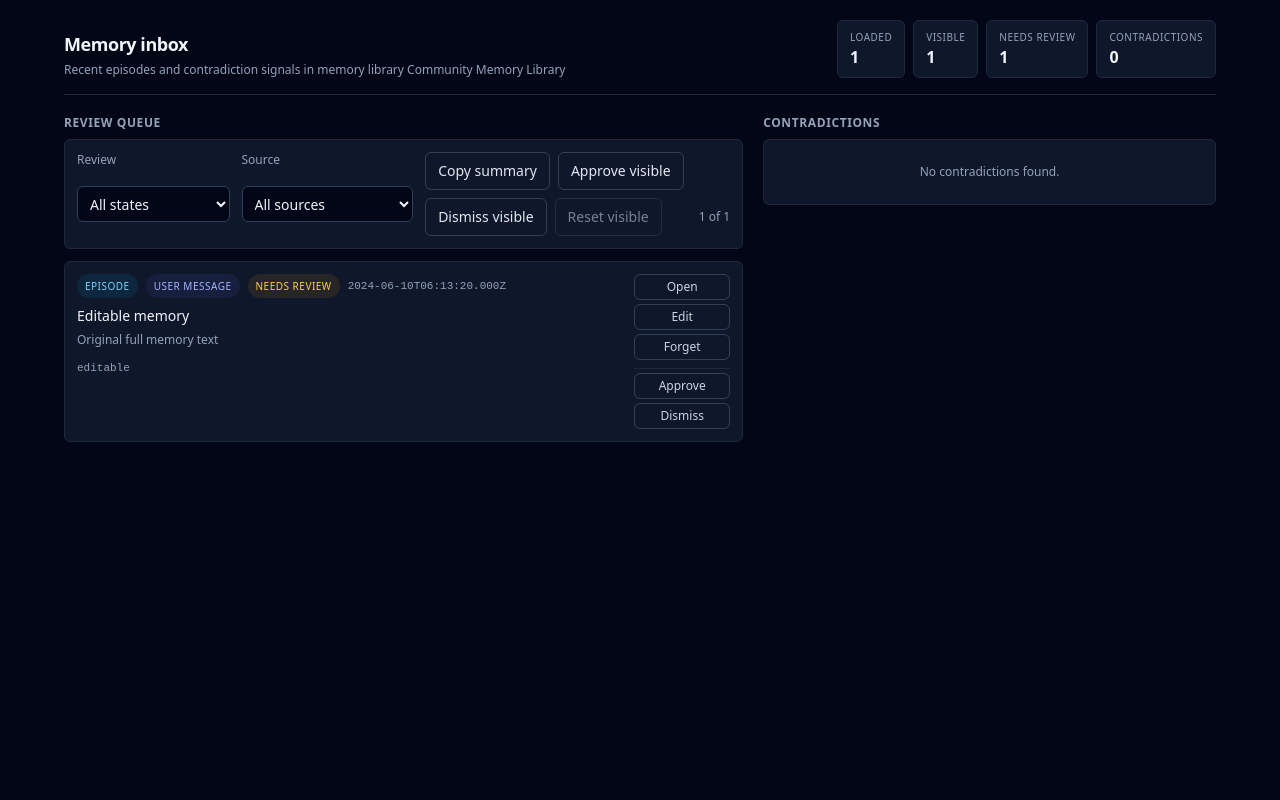
InboxView › loads full episode text before saving an edit
Click the button with aria-label "edit editable memory": {"x": 682, "y": 317} [634,304,730,330]
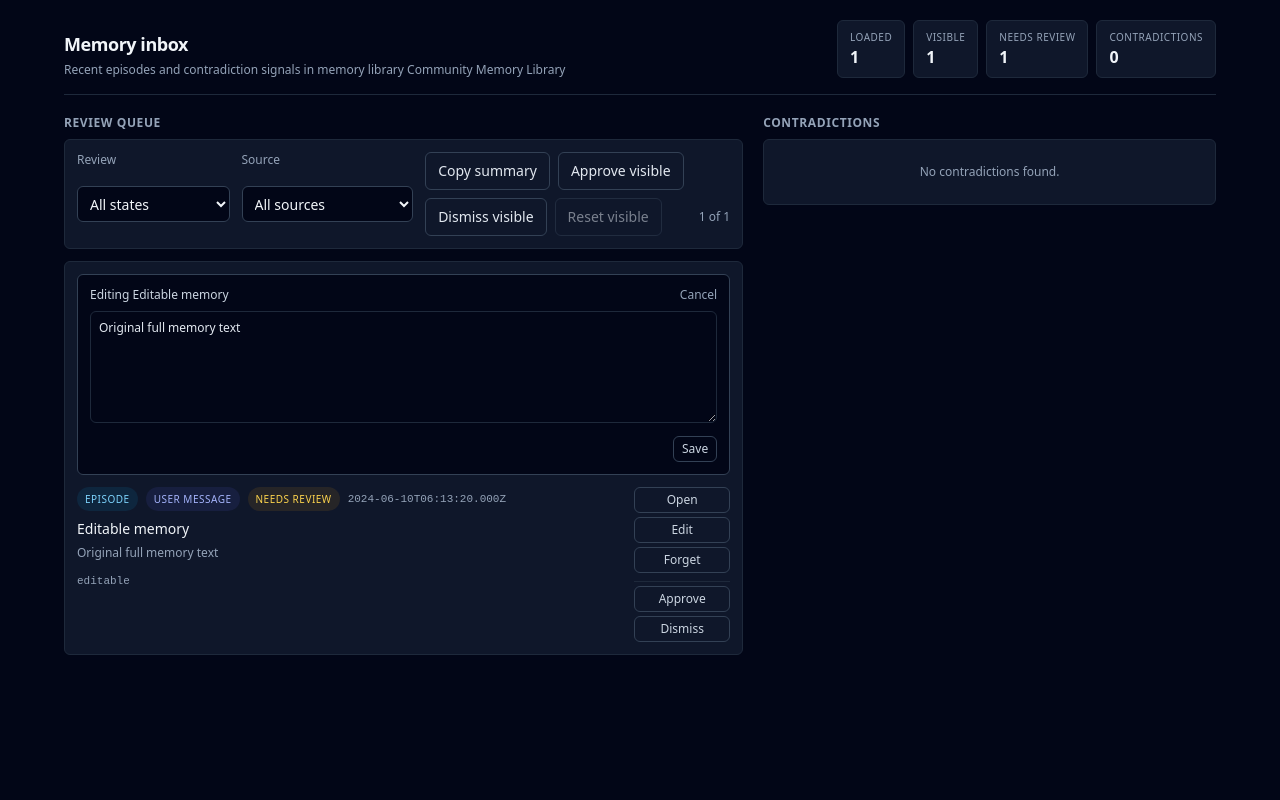
Now the text box named "edit text for editable memory" holds "Original full memory text"
Replace the text in the text box named "edit text for editable memory" with "Updated full memory text": {"x": 404, "y": 367} [90,311,717,423]
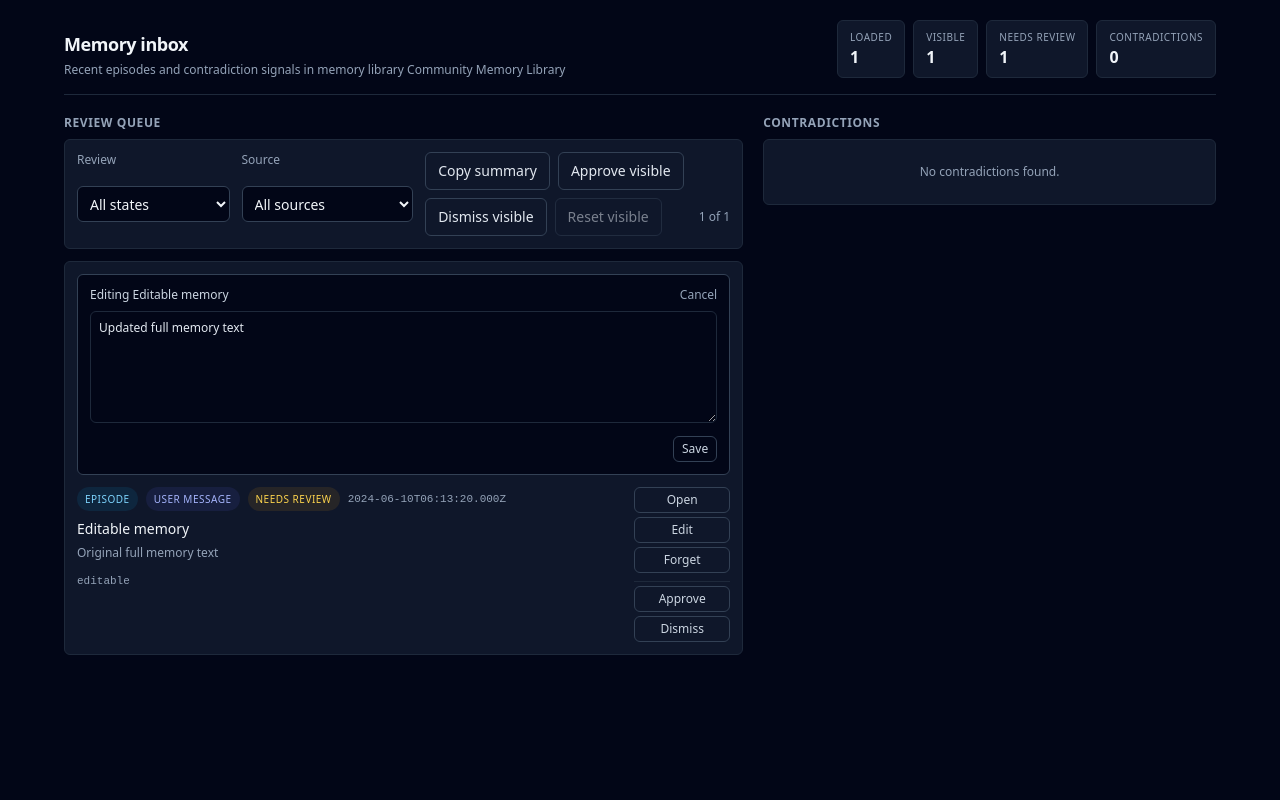
Click the button "Save": {"x": 695, "y": 449} [673,436,717,462]
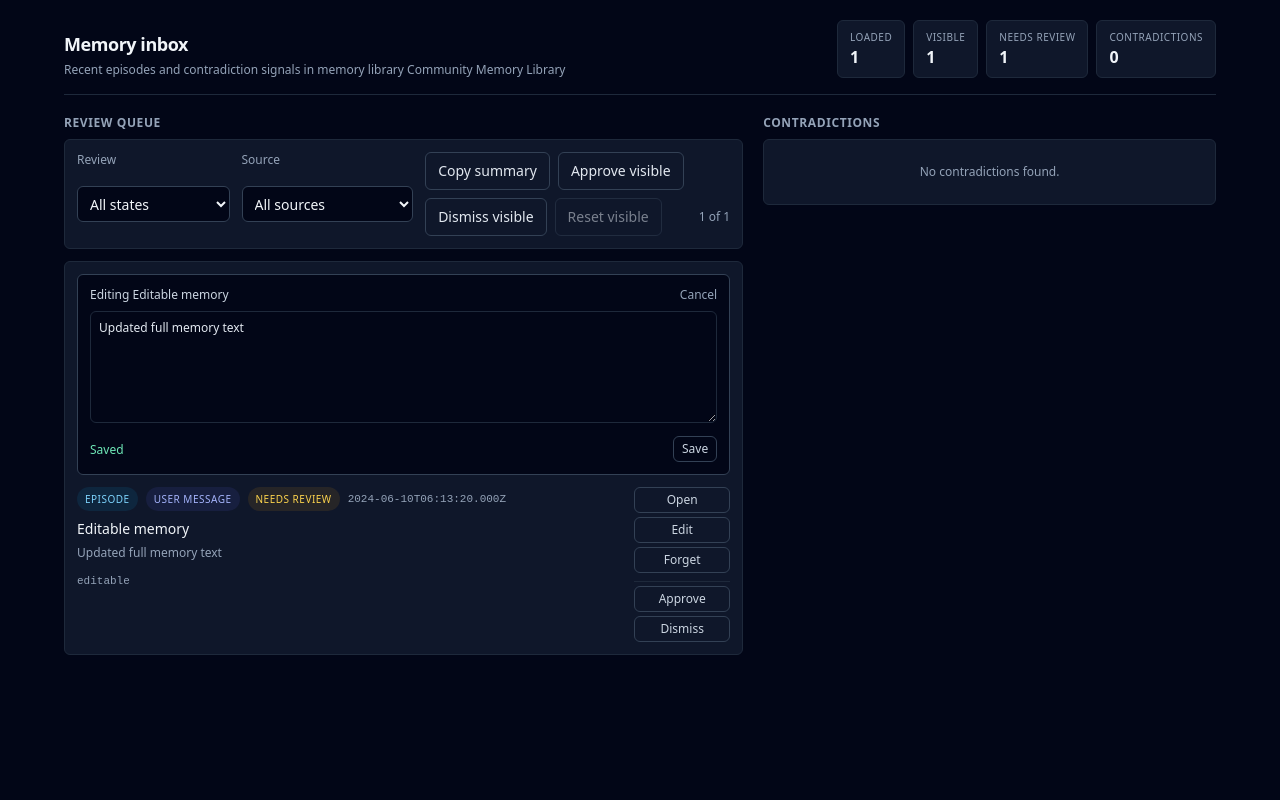
Now the text "Saved" is shown, box [90,441,124,458]
